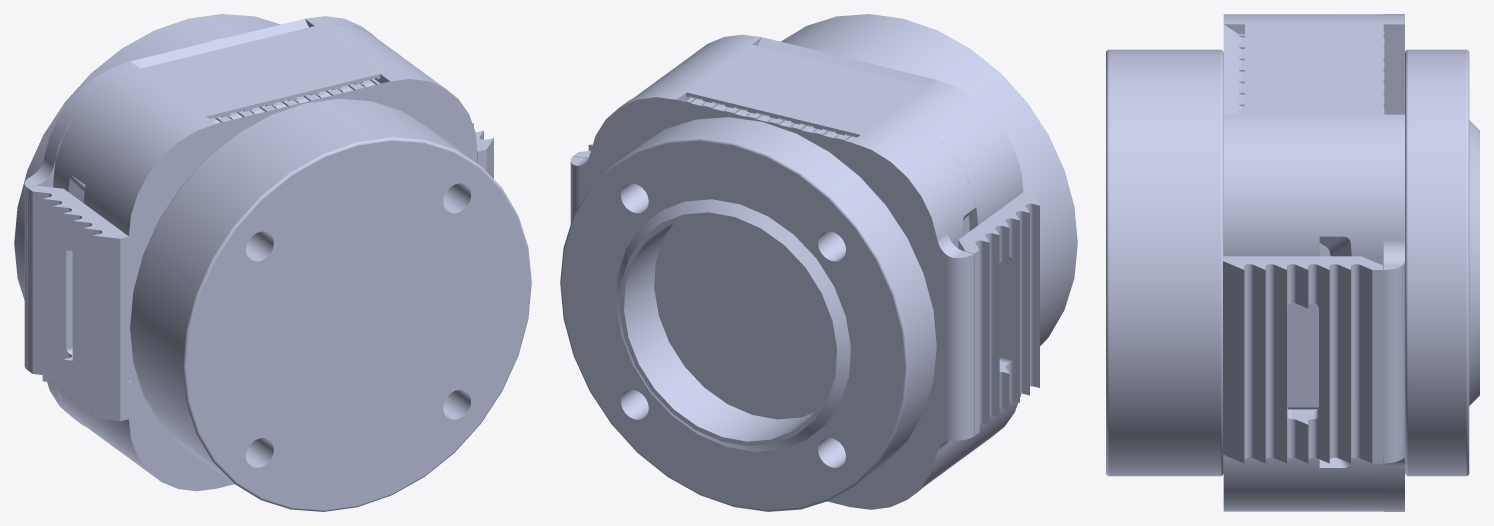
3 renders of one model, left to right at view 1: azimuth 30°, elevation 25°; view 2: azimuth 150°, elevation 25°; view 3: azimuth 270°, elevation 25°, orthographic. The views are drawn at different scales.
Visible parts, largest first — view 1: NAUO11, NAUO1, NAUO5, NAUO3, NAUO2, NAUO4, NAUO45; view 2: NAUO45, NAUO3, NAUO11, NAUO1, NAUO5, NAUO4, NAUO2; view 3: NAUO11, NAUO45, NAUO1, NAUO5, NAUO3, NAUO4, NAUO2.
Boxes of the visible parts, x1=… form: NAUO11: x1=130, y1=98, x2=531, y2=511; NAUO1: x1=27, y1=123, x2=493, y2=421; NAUO5: x1=83, y1=45, x2=477, y2=491; NAUO3: x1=24, y1=16, x2=375, y2=426; NAUO2: x1=129, y1=57, x2=459, y2=488; NAUO4: x1=53, y1=23, x2=398, y2=448; NAUO45: x1=14, y1=14, x2=280, y2=300; NAUO45: x1=560, y1=117, x2=936, y2=511; NAUO3: x1=570, y1=61, x2=974, y2=509; NAUO11: x1=781, y1=14, x2=1077, y2=345; NAUO1: x1=574, y1=144, x2=1039, y2=435; NAUO5: x1=663, y1=34, x2=1023, y2=467; NAUO4: x1=633, y1=68, x2=976, y2=486; NAUO2: x1=730, y1=37, x2=935, y2=103; NAUO11: x1=1106, y1=49, x2=1223, y2=476; NAUO45: x1=1405, y1=49, x2=1479, y2=476; NAUO1: x1=1223, y1=256, x2=1382, y2=463; NAUO5: x1=1223, y1=14, x2=1330, y2=511; NAUO3: x1=1293, y1=14, x2=1404, y2=511; NAUO4: x1=1319, y1=14, x2=1383, y2=511; NAUO2: x1=1223, y1=24, x2=1292, y2=114.
Size of the model in its own units: 0.046 by 0.04 by 0.035.
